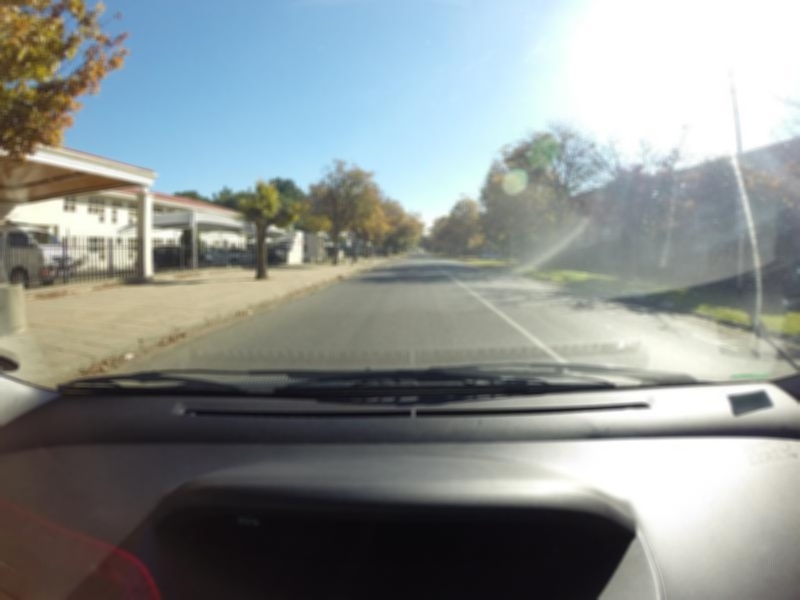pothole: (563, 301, 594, 313)
